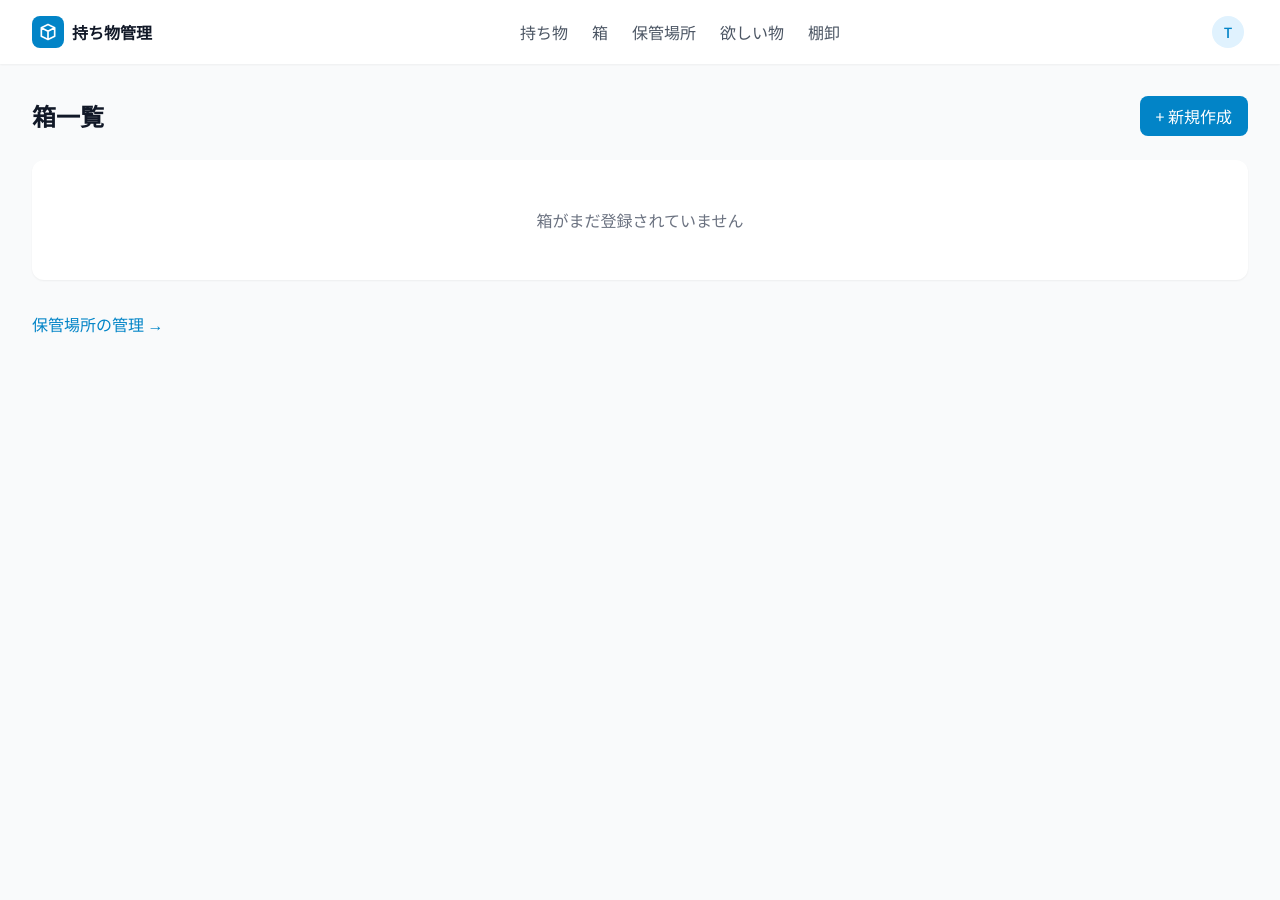
Scenario: BoxesPage › should open create modal when clicking new button
The width and height of the screenshot is (1280, 900).
Expected: the heading "箱一覧" is shown, top-left (32, 100), bottom-right (104, 132)
Click the button "+ 新規作成" at [1194, 116], box top-left (1140, 96), bottom-right (1248, 136)
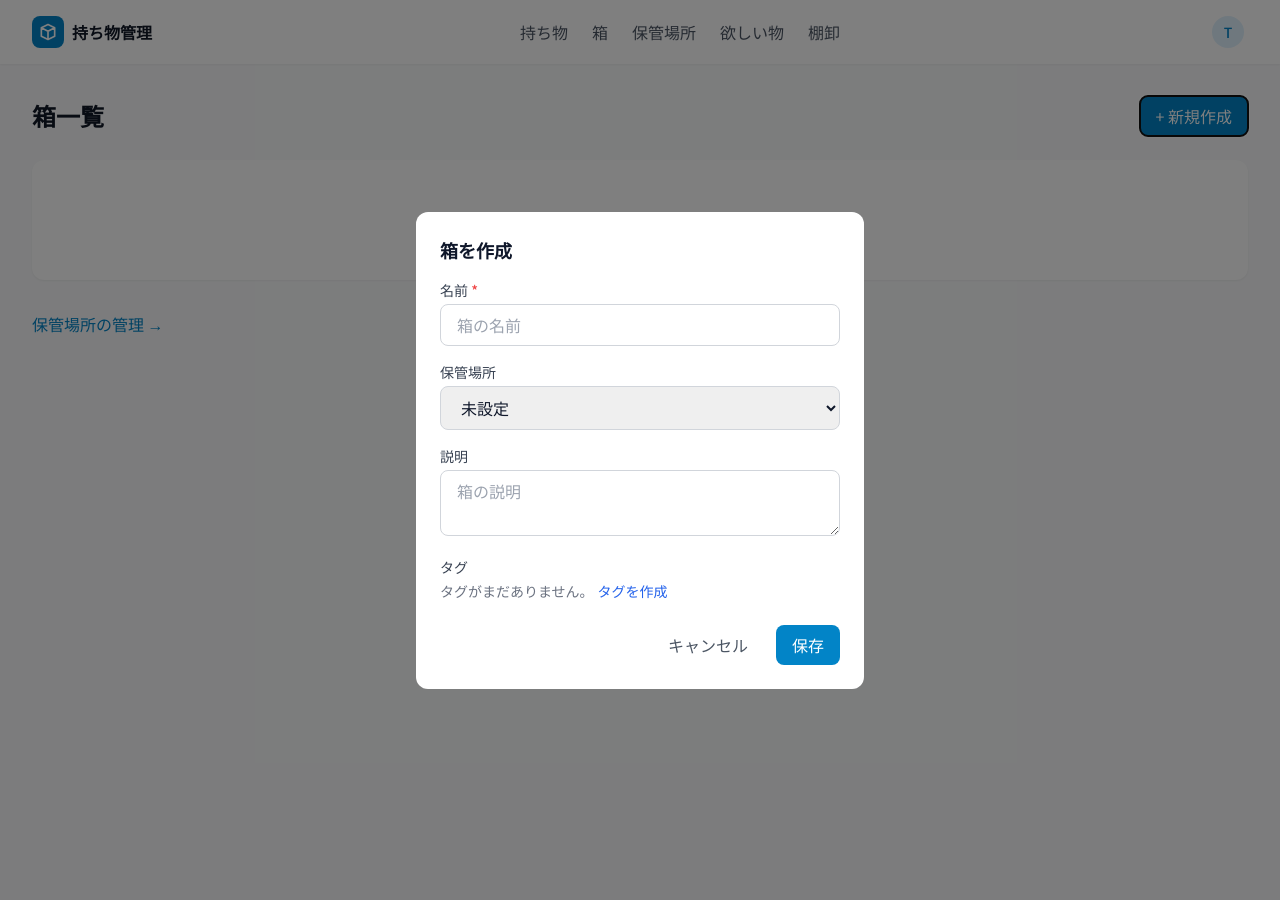
Expected: the heading "箱を作成" is shown, top-left (440, 236), bottom-right (512, 262)
